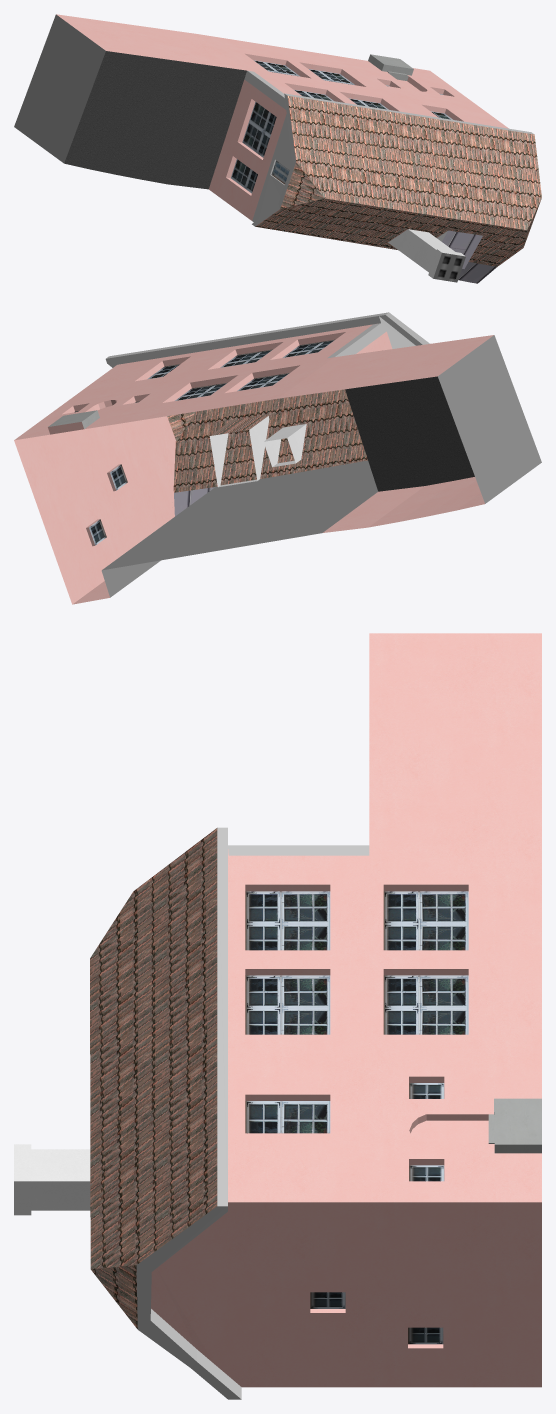
The model's file is Pikk_51_3.obj.
3 views of the same model, one above another, from view 1: azimuth 30°, elevation 25°; view 2: azimuth 150°, elevation 25°; view 3: azimuth 270°, elevation 25° (orthographic). The views are drawn at different scales.
Parts seen in each view (by area): view 1: Pikk_51_3; view 2: Pikk_51_3; view 3: Pikk_51_3.
Part boxes in pixels (bbox=[...]): Pikk_51_3: bbox=[14, 14, 541, 283]; Pikk_51_3: bbox=[14, 312, 541, 604]; Pikk_51_3: bbox=[14, 633, 541, 1399].
Bounding box in the file's own units: 18.73 × 11.9 × 11.66.
